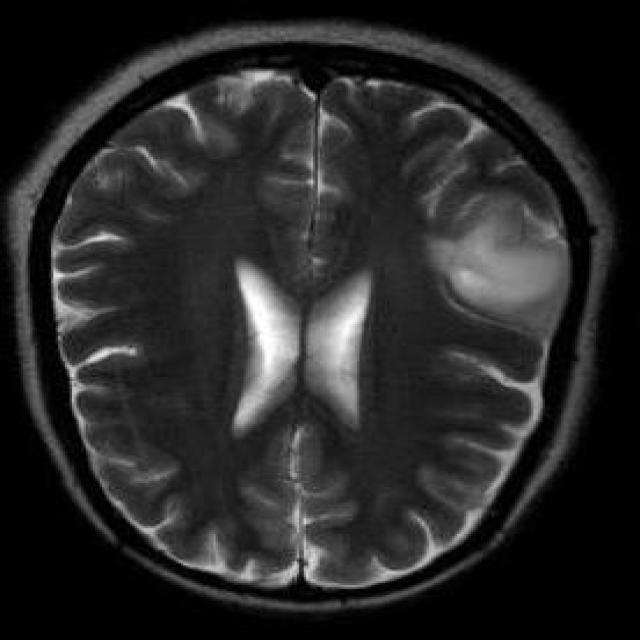notumor: (5, 22, 614, 611)
